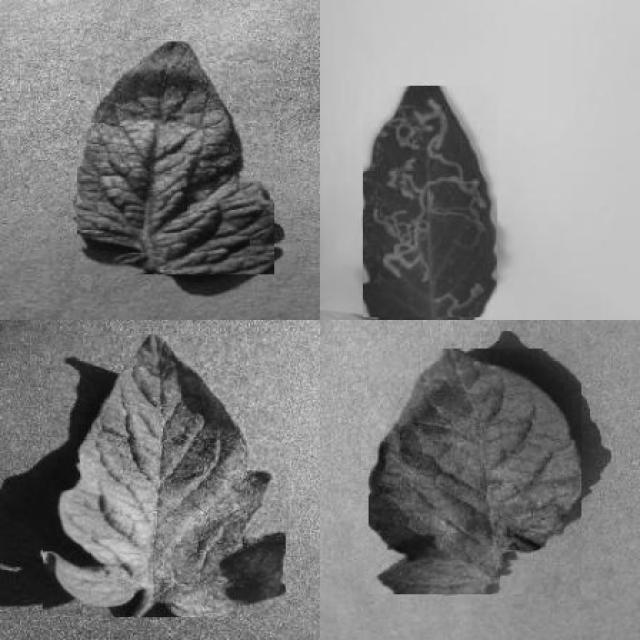Late Blight: (368, 349, 582, 594)
Leaf Miner: (363, 86, 497, 317)
Spider Mites: (44, 334, 286, 617), (76, 42, 274, 274)
